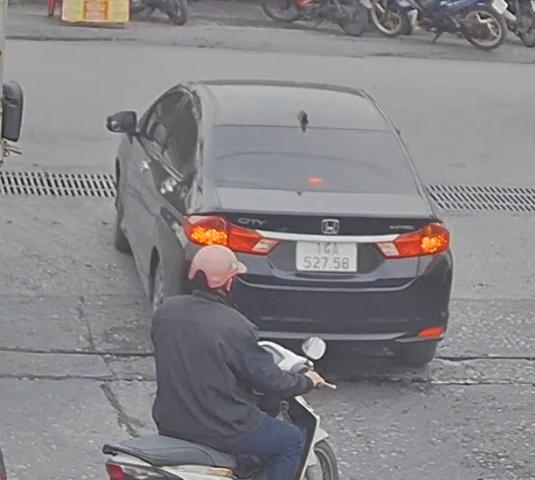vehicle plate: (296, 233, 359, 278)
